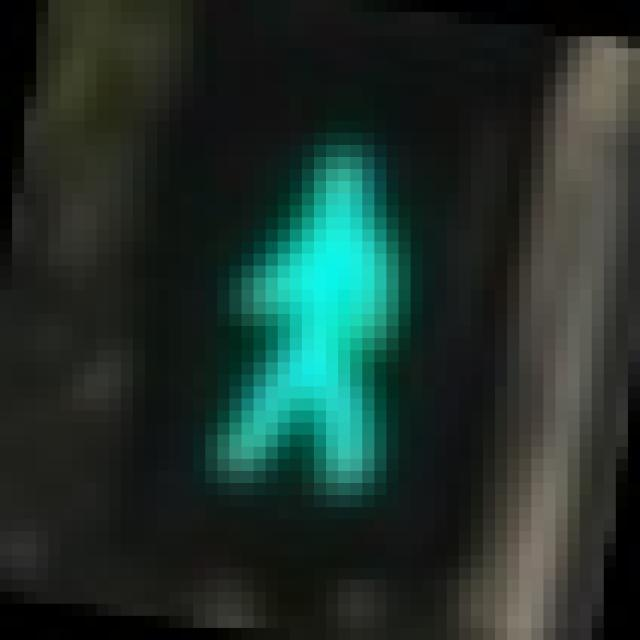geen-crossing: (108, 61, 496, 544)
